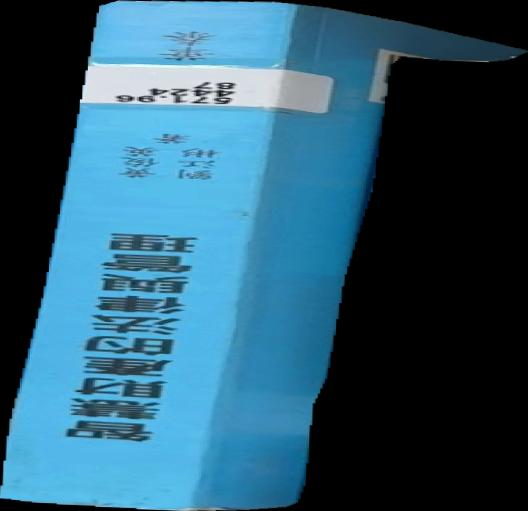reverse: (1, 1, 528, 511)
